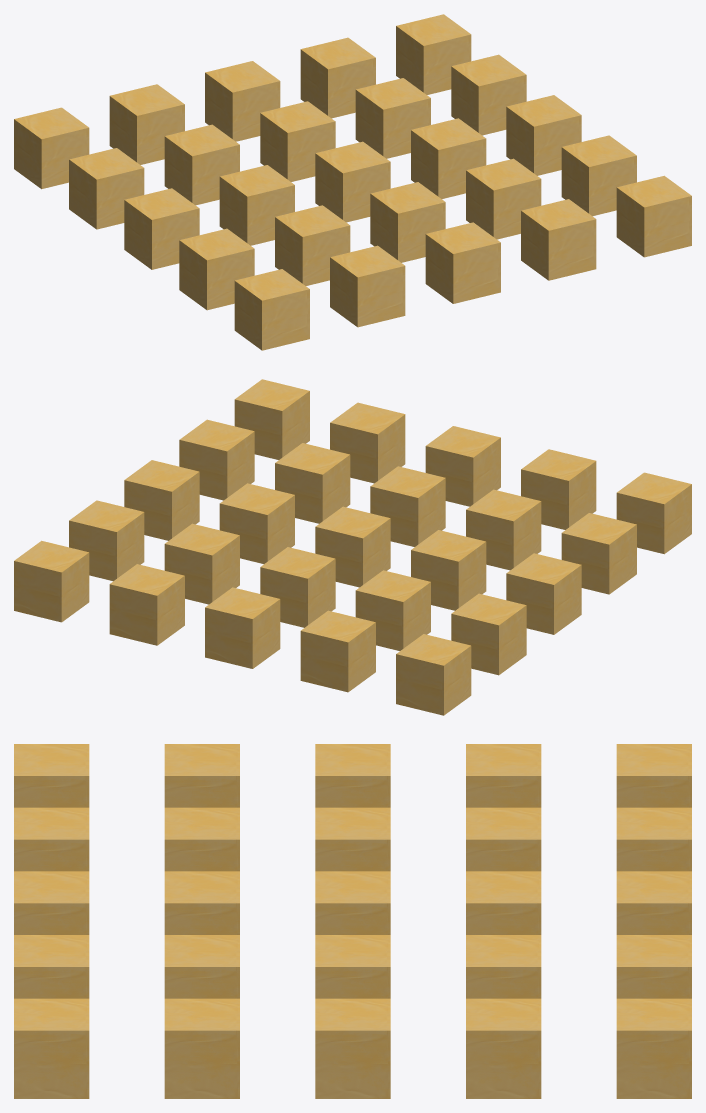
3 renders of one model, top to bottom at view 1: azimuth 30°, elevation 25°; view 2: azimuth 150°, elevation 25°; view 3: azimuth 270°, elevation 25°, orthographic. The views are drawn at different scales.
Visible parts, largest first — view 1: 立方体.001, 立方体.002, 立方体.003, 立方体.005, 立方体.004, 立方体.023, 立方体.022, 立方体.024, 立方体.025, 立方体.016, 立方体.020, 立方体.021 (+13 smaller); view 2: 立方体.025, 立方体.021, 立方体.009, 立方体.017, 立方体.013, 立方体.023, 立方体.024, 立方体.022, 立方体.001, 立方体.002, 立方体.014, 立方体.018 (+13 smaller); view 3: 立方体.007, 立方体.005, 立方体.006, 立方体.008, 立方体.009, 立方体.019, 立方体.002, 立方体.018, 立方体.020, 立方体.021, 立方体.001, 立方体.003 (+13 smaller).
Boxes of the visible parts, bbox=[...] form: 立方体.001: bbox=[234, 269, 309, 350]; 立方体.002: bbox=[330, 245, 405, 327]; 立方体.003: bbox=[425, 222, 500, 303]; 立方体.005: bbox=[616, 175, 691, 257]; 立方体.004: bbox=[521, 199, 596, 280]; 立方体.023: bbox=[124, 188, 199, 269]; 立方体.022: bbox=[179, 228, 254, 310]; 立方体.024: bbox=[69, 148, 144, 229]; 立方体.025: bbox=[14, 107, 89, 189]; 立方体.016: bbox=[260, 101, 335, 181]; 立方体.020: bbox=[164, 124, 239, 205]; 立方体.021: bbox=[109, 84, 184, 164]; 立方体.025: bbox=[396, 634, 471, 715]; 立方体.021: bbox=[300, 610, 375, 692]; 立方体.009: bbox=[14, 540, 89, 622]; 立方体.017: bbox=[205, 587, 280, 668]; 立方体.013: bbox=[109, 564, 184, 645]; 立方体.023: bbox=[506, 553, 581, 634]; 立方体.024: bbox=[451, 593, 526, 675]; 立方体.022: bbox=[561, 513, 636, 594]; 立方体.001: bbox=[616, 472, 691, 554]; 立方体.002: bbox=[521, 449, 596, 529]; 立方体.014: bbox=[370, 466, 445, 546]; 立方体.018: bbox=[466, 489, 541, 570]; 立方体.007: bbox=[315, 998, 390, 1098]; 立方体.005: bbox=[14, 998, 89, 1098]; 立方体.006: bbox=[164, 998, 239, 1098]; 立方体.008: bbox=[466, 998, 541, 1098]; 立方体.009: bbox=[616, 998, 691, 1098]; 立方体.019: bbox=[315, 807, 390, 871]; 立方体.002: bbox=[14, 807, 89, 871]; 立方体.018: bbox=[164, 807, 239, 871]; 立方体.020: bbox=[466, 807, 541, 871]; 立方体.021: bbox=[616, 807, 691, 871]; 立方体.001: bbox=[14, 744, 89, 807]; 立方体.003: bbox=[14, 871, 89, 934].
Size of the model in its own units: 90 by 10 by 90.
Materials: 1 (1 with a texture image).
